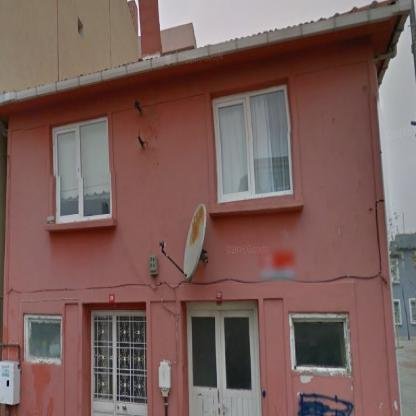door: (221, 311, 256, 415), (116, 311, 147, 414)
window: (213, 86, 293, 199), (54, 118, 111, 222), (293, 320, 347, 368), (190, 316, 216, 386), (94, 317, 115, 399), (29, 319, 61, 358), (411, 301, 415, 321)
